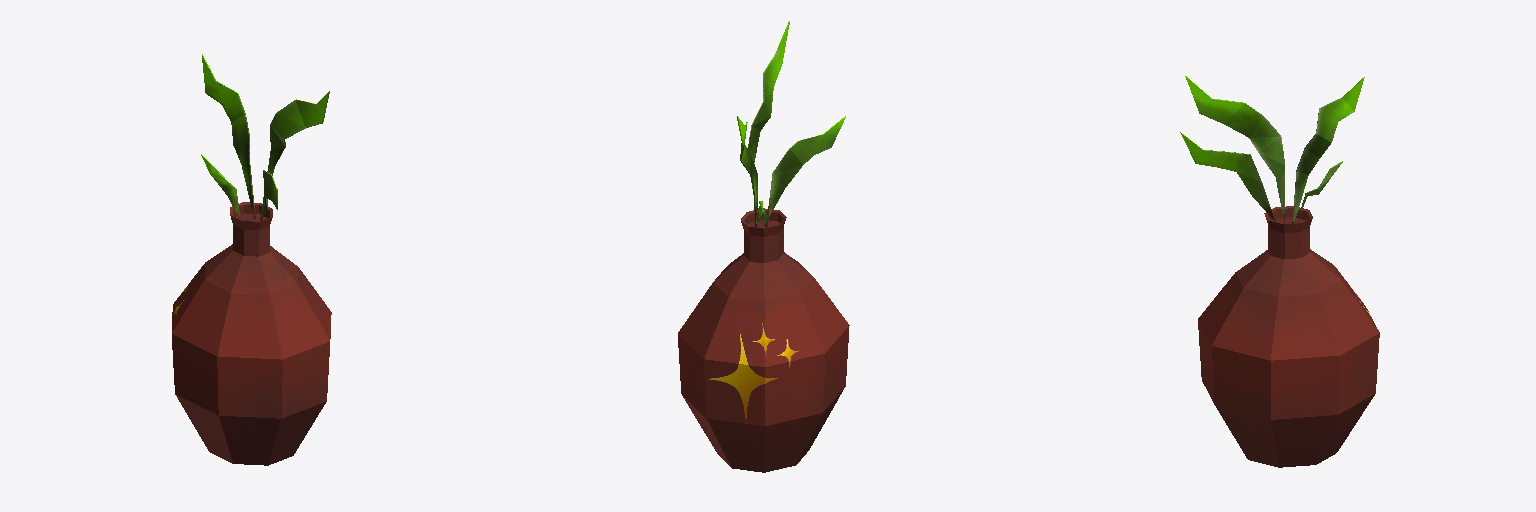
3 views of the same model, side by side, from view 1: azimuth 30°, elevation 25°; view 2: azimuth 150°, elevation 25°; view 3: azimuth 270°, elevation 25° (orthographic).
Visible parts, largest first — view 1: Planta2; view 2: Planta2; view 3: Planta2.
Part boxes in pixels (left/top/right/bottom): Planta2: left=172, top=54, right=331, bottom=465; Planta2: left=678, top=21, right=849, bottom=472; Planta2: left=1180, top=76, right=1379, bottom=467.
Size of the model in its own units: 0.1871 by 0.487 by 0.2278.
Materials: 1 (1 with a texture image).